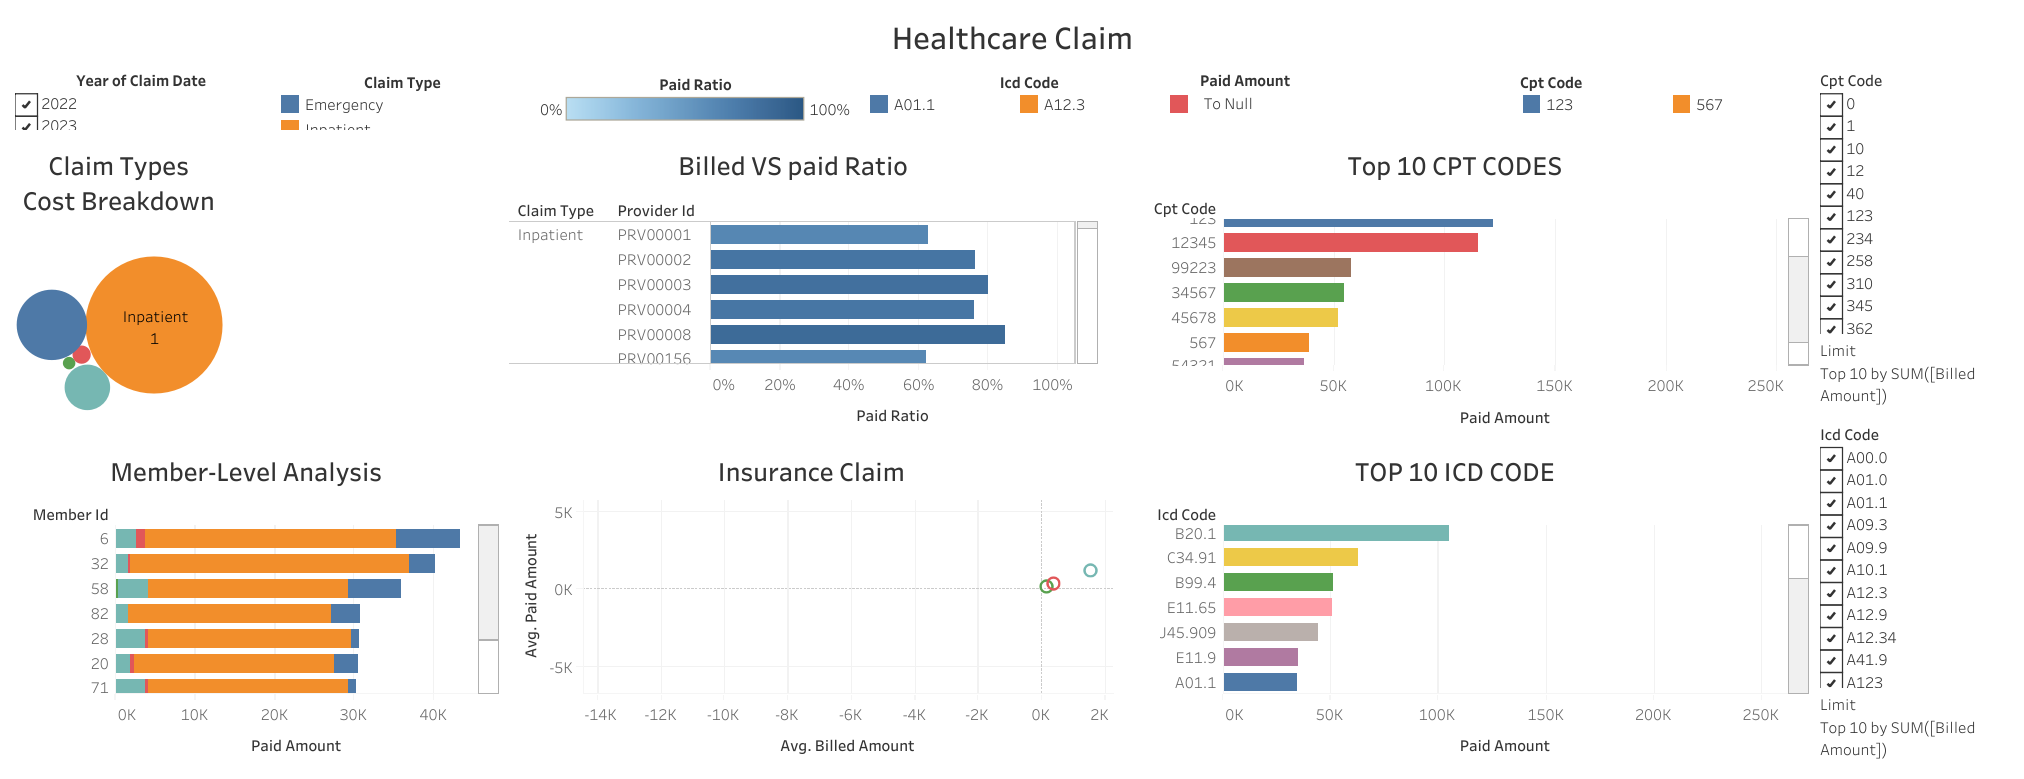

The dashboard page shown, as its layout file describes it:
{"tool":"tableau","page":{"name":"Dashboard 1","canvas":[1000,1000],"units":"permille","ordinal":0},"visuals":[{"type":"title","box":[4.8,11.2,990.3,68.3]},{"type":"filter","title":"Sheet 6","param":"[federated.1ilgdwp0e29vx21d3tgzx0t24w39].[yr:claim_date:ok]","box":[4.8,79.5,129.7,92.6]},{"type":"legend","title":"Sheet 1","param":"[federated.1ilgdwp0e29vx21d3tgzx0t24w39].[none:claim_type:nk]","box":[134.6,79.5,127.9,92.6]},{"type":"legend","title":"Sheet 5","param":"[federated.1ilgdwp0e29vx21d3tgzx0t24w39].[usr:Calculation_1142788433121755136:qk","box":[262.5,79.5,164.2,92.6]},{"type":"legend","title":"Sheet 3","param":"[federated.1ilgdwp0e29vx21d3tgzx0t24w39].[none:icd_code:nk]","box":[426.7,79.5,164.8,92.6]},{"type":"filter","title":"Sheet 2","param":"[federated.1ilgdwp0e29vx21d3tgzx0t24w39].[sum:paid_amount:qk]","box":[591.4,79.5,158.1,92.6]},{"type":"legend","title":"Sheet 2","param":"[federated.1ilgdwp0e29vx21d3tgzx0t24w39].[none:cpt_code:ok]","box":[749.5,79.5,149.1,92.6]},{"type":"filter","title":"Sheet 2","param":"[federated.1ilgdwp0e29vx21d3tgzx0t24w39].[none:cpt_code:ok]","box":[898.6,79.5,96.6,454.7]},{"type":"worksheet","title":"Sheet 1","mark":"Circle","box":[4.8,172.1,245,394.1]},{"type":"worksheet","title":"Sheet 5","mark":"Automatic","rows":["claim_type","provider_id"],"cols":["Calculation_1142788433121755136"],"box":[249.8,172.1,303.6,394.1]},{"type":"worksheet","title":"Sheet 2","mark":"Automatic","rows":["cpt_code"],"cols":["paid_amount"],"box":[553.4,172.1,345.2,394.1]},{"type":"filter","title":"Sheet 3","param":"[federated.1ilgdwp0e29vx21d3tgzx0t24w39].[none:icd_code:nk]","box":[898.6,534.2,96.6,454.7]},{"type":"worksheet","title":"Sheet 4","mark":"Automatic","rows":["member_id"],"cols":["paid_amount"],"box":[4.8,566.2,245,422.6]},{"type":"worksheet","title":"Sheet 6","mark":"Automatic","rows":["paid_amount"],"cols":["billed_amount"],"box":[249.8,566.2,303.6,422.6]},{"type":"worksheet","title":"Sheet 3","mark":"Automatic","rows":["icd_code"],"cols":["paid_amount"],"box":[553.4,566.2,345.2,422.6]}]}

Visuals, with their boxes on the dashboard's canvas, which has no fixed pixel size, in thousandths of its width and height (x1, y1, x2, y2). These are canvas units, not pixel positions in the 2024x779 screenshot, which may show the page scaled, cropped or inside an application window:
title: 5, 11, 995, 80
"Sheet 6" filter: 5, 80, 134, 172
"Sheet 1" legend: 135, 80, 262, 172
"Sheet 5" legend: 262, 80, 427, 172
"Sheet 3" legend: 427, 80, 592, 172
"Sheet 2" filter: 591, 80, 750, 172
"Sheet 2" legend: 750, 80, 899, 172
"Sheet 2" filter: 899, 80, 995, 534
"Sheet 1" worksheet (Circle marks): 5, 172, 250, 566
"Sheet 5" worksheet: 250, 172, 553, 566
"Sheet 2" worksheet: 553, 172, 899, 566
"Sheet 3" filter: 899, 534, 995, 989
"Sheet 4" worksheet: 5, 566, 250, 989
"Sheet 6" worksheet: 250, 566, 553, 989
"Sheet 3" worksheet: 553, 566, 899, 989
